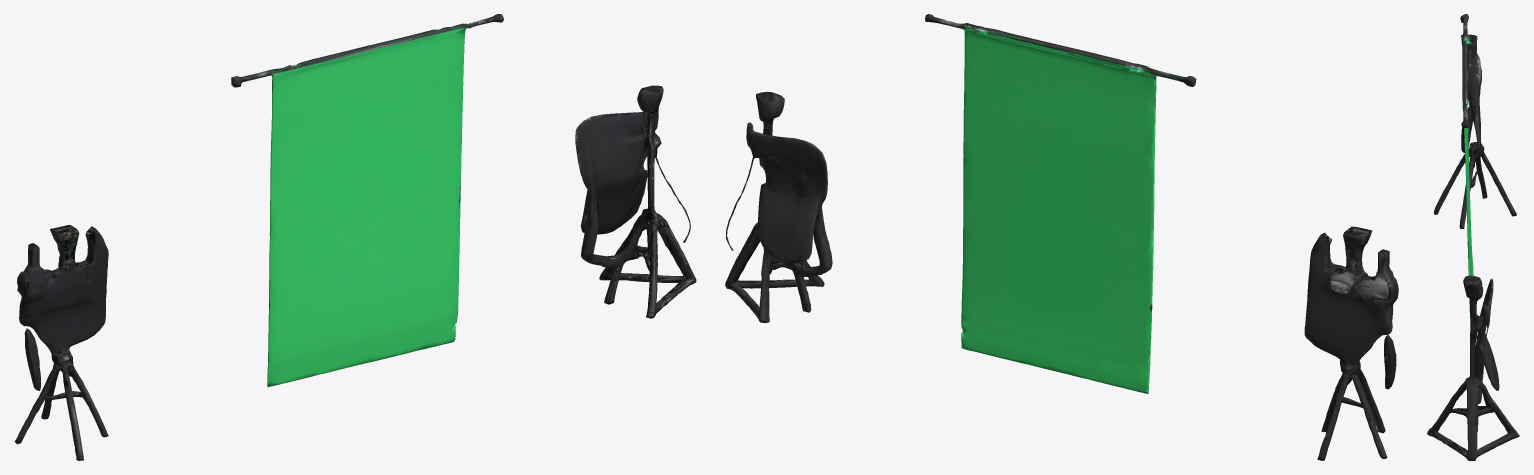
File: fotografia2.glb
3 views of the same model, side by side, from view 1: azimuth 30°, elevation 25°; view 2: azimuth 150°, elevation 25°; view 3: azimuth 270°, elevation 25° (orthographic). The views are drawn at different scales.
Size of the model in its own units: 1.98 by 0.9208 by 0.2886.
1 material, 1 textured.
